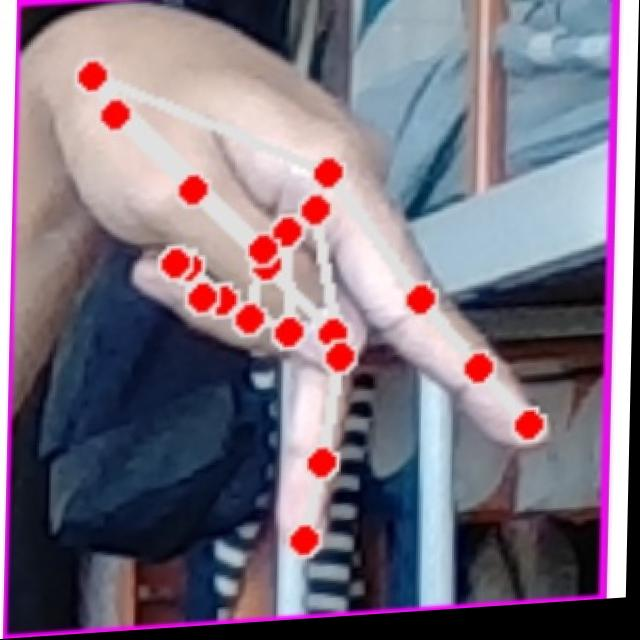P: (21, 0, 569, 595)
